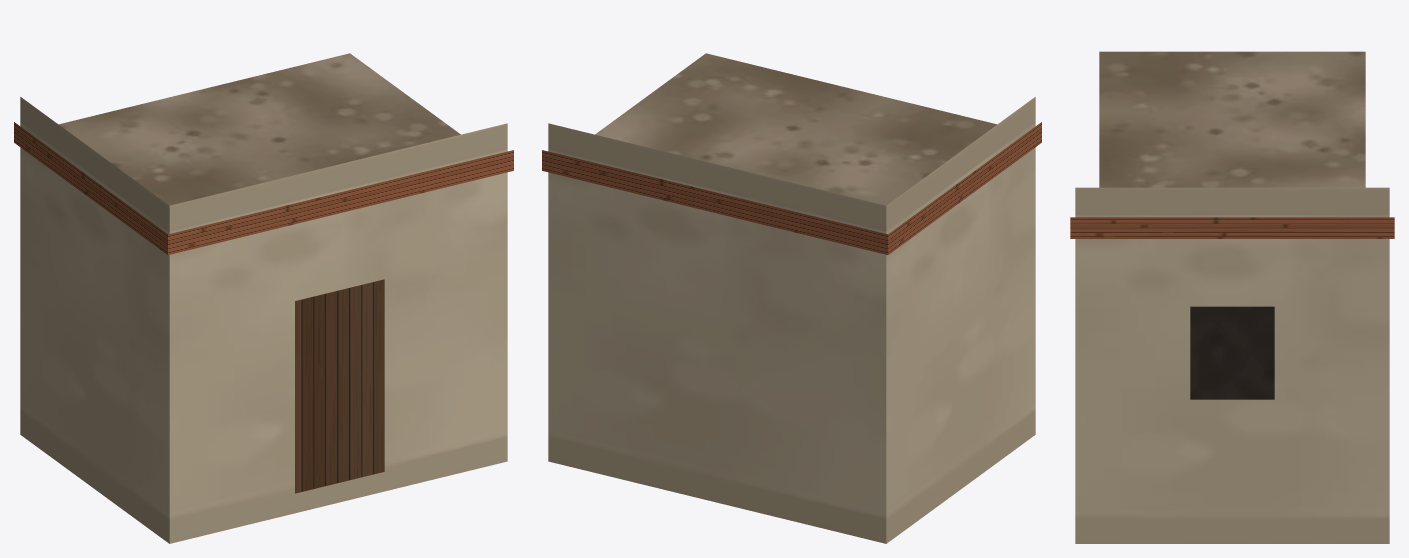
File: ae_sand_stone_small_booth_lod2.glb
3 views of the same model, side by side, from view 1: azimuth 30°, elevation 25°; view 2: azimuth 150°, elevation 25°; view 3: azimuth 270°, elevation 25° (orthographic). The views are drawn at different scales.
Visible parts, largest first — view 1: ae_sand_stone_small_booth_lod2; view 2: ae_sand_stone_small_booth_lod2; view 3: ae_sand_stone_small_booth_lod2.
Part boxes in pixels (<box>): ae_sand_stone_small_booth_lod2: <box>14,53,513,543</box>; ae_sand_stone_small_booth_lod2: <box>542,53,1041,543</box>; ae_sand_stone_small_booth_lod2: <box>1070,51,1394,543</box>.
Bounding box in the file's own units: 3.48 × 3.25 × 2.68.
1 material, 1 textured.
